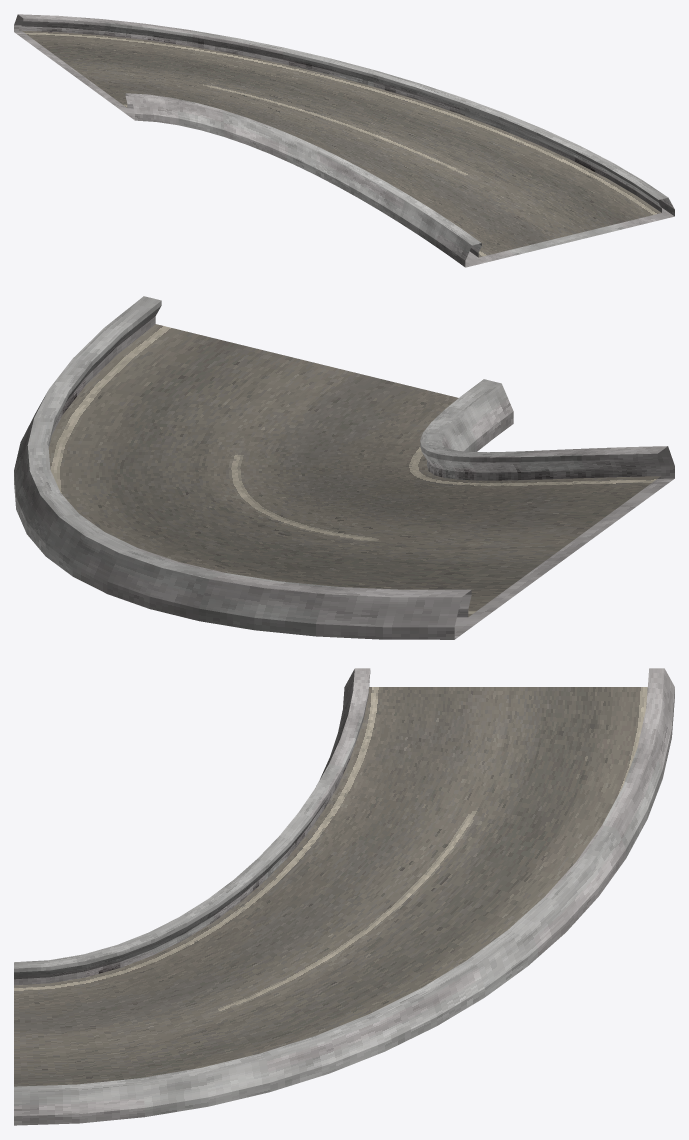
The model's file is turn-left2x2.glb.
3 renders of one model, top to bottom at view 1: azimuth 30°, elevation 25°; view 2: azimuth 150°, elevation 25°; view 3: azimuth 270°, elevation 25°, orthographic. The views are drawn at different scales.
Parts seen in each view (by area): view 1: road-Turn-Flat-BiSlopeUp-Up2-Left-Size2; view 2: road-Turn-Flat-BiSlopeUp-Up2-Left-Size2; view 3: road-Turn-Flat-BiSlopeUp-Up2-Left-Size2.
Part boxes in pixels (x1,y1,x2,y2): road-Turn-Flat-BiSlopeUp-Up2-Left-Size2: [14, 14, 674, 267]; road-Turn-Flat-BiSlopeUp-Up2-Left-Size2: [14, 296, 674, 639]; road-Turn-Flat-BiSlopeUp-Up2-Left-Size2: [14, 668, 674, 1125].
Bounding box in the file's own units: 2 × 0.5938 × 2.
Materials: 2 (2 with a texture image).
